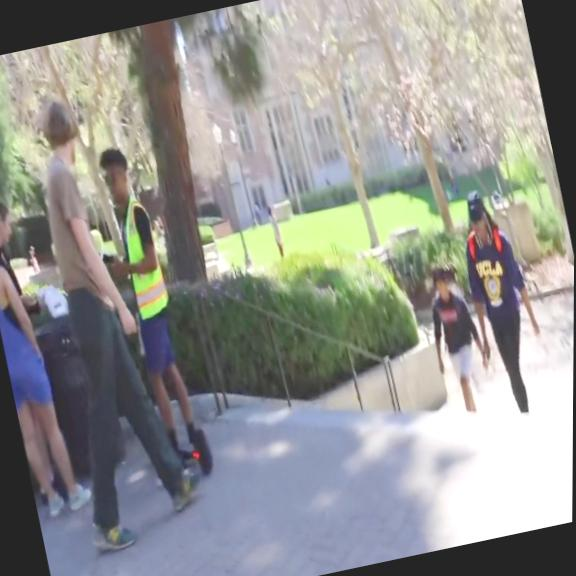safety_vest: (113, 192, 175, 320)
